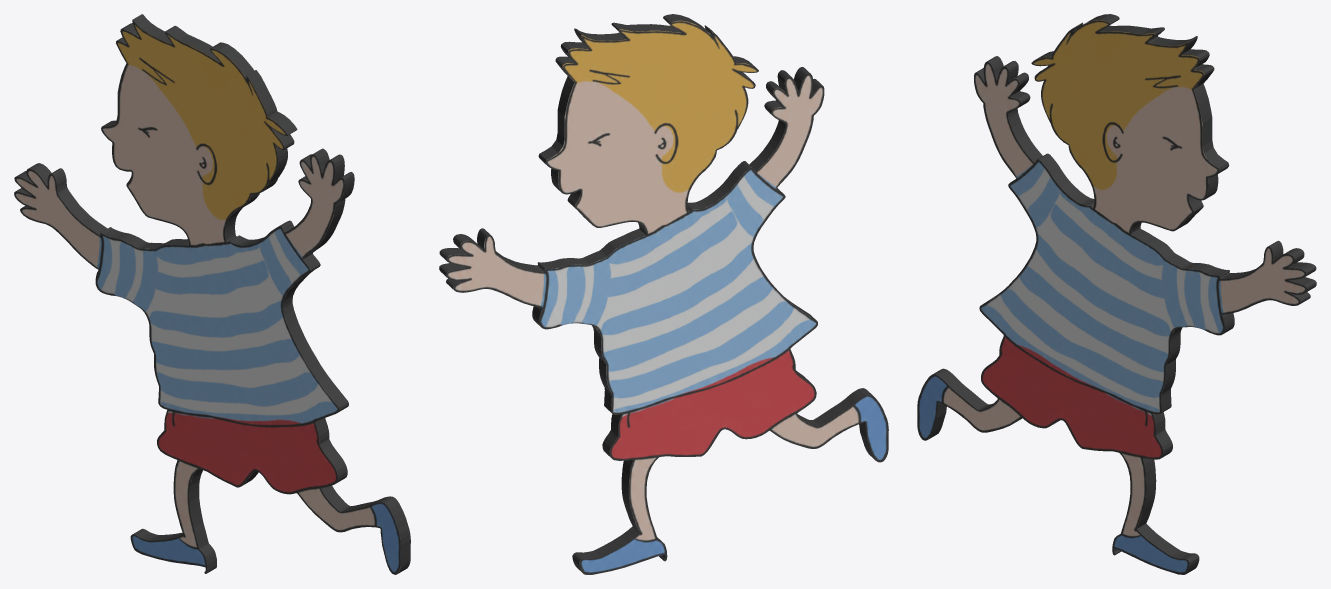
Rendered from lui.glb.
3 views of the same model, side by side, from view 1: azimuth 90°, elevation 25°; view 2: azimuth 150°, elevation 25°; view 3: azimuth 270°, elevation 25° (orthographic).
Visible parts, largest first — view 1: b277b9ce-66b4-497d-8ff6-b4b321c315f9; view 2: b277b9ce-66b4-497d-8ff6-b4b321c315f9; view 3: b277b9ce-66b4-497d-8ff6-b4b321c315f9.
Boxes of the visible parts, bbox=[...] form: b277b9ce-66b4-497d-8ff6-b4b321c315f9: bbox=[14, 14, 410, 574]; b277b9ce-66b4-497d-8ff6-b4b321c315f9: bbox=[439, 14, 888, 574]; b277b9ce-66b4-497d-8ff6-b4b321c315f9: bbox=[917, 14, 1316, 574].
Size of the model in its own units: 0.3484 by 0.7012 by 0.4738.
Materials: 1 (1 with a texture image).
